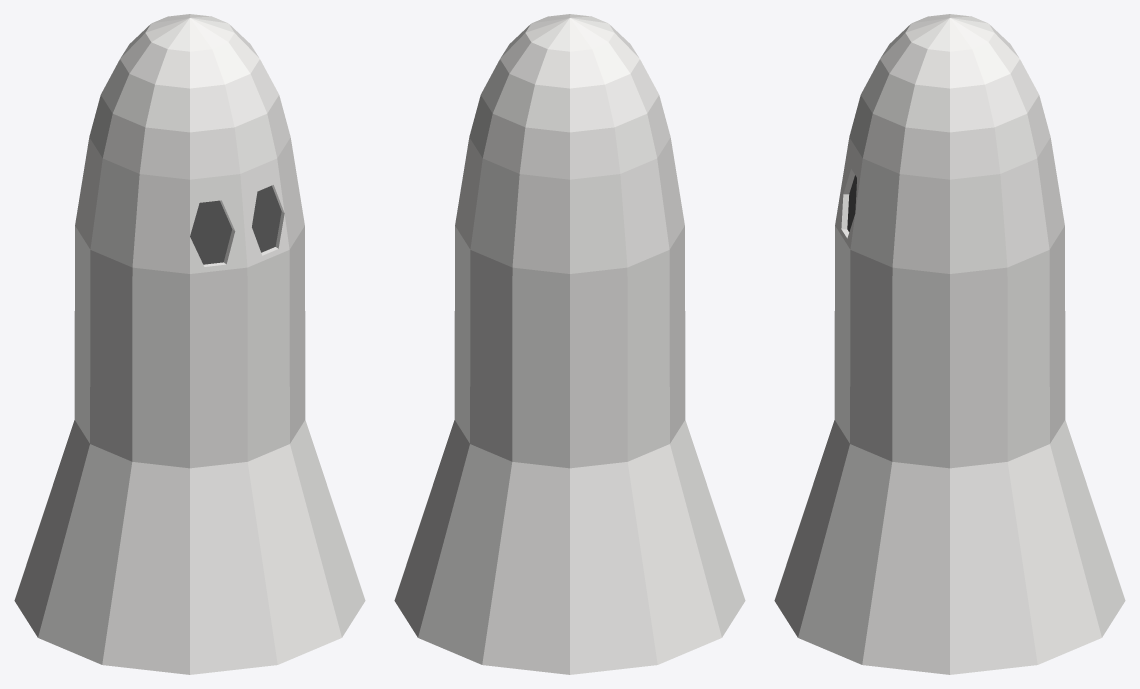
File: Ghost_2.fbx
3 renders of one model, left to right at view 1: azimuth 30°, elevation 25°; view 2: azimuth 150°, elevation 25°; view 3: azimuth 270°, elevation 25°, orthographic.
Parts seen in each view (by area): view 1: Ghost_2; view 2: Ghost_2; view 3: Ghost_2.
Part boxes in pixels (x1,y1,x2,y2): Ghost_2: [14, 14, 365, 674]; Ghost_2: [394, 14, 745, 674]; Ghost_2: [774, 14, 1125, 674].
Size of the model in its own units: 143 by 143 by 262.
